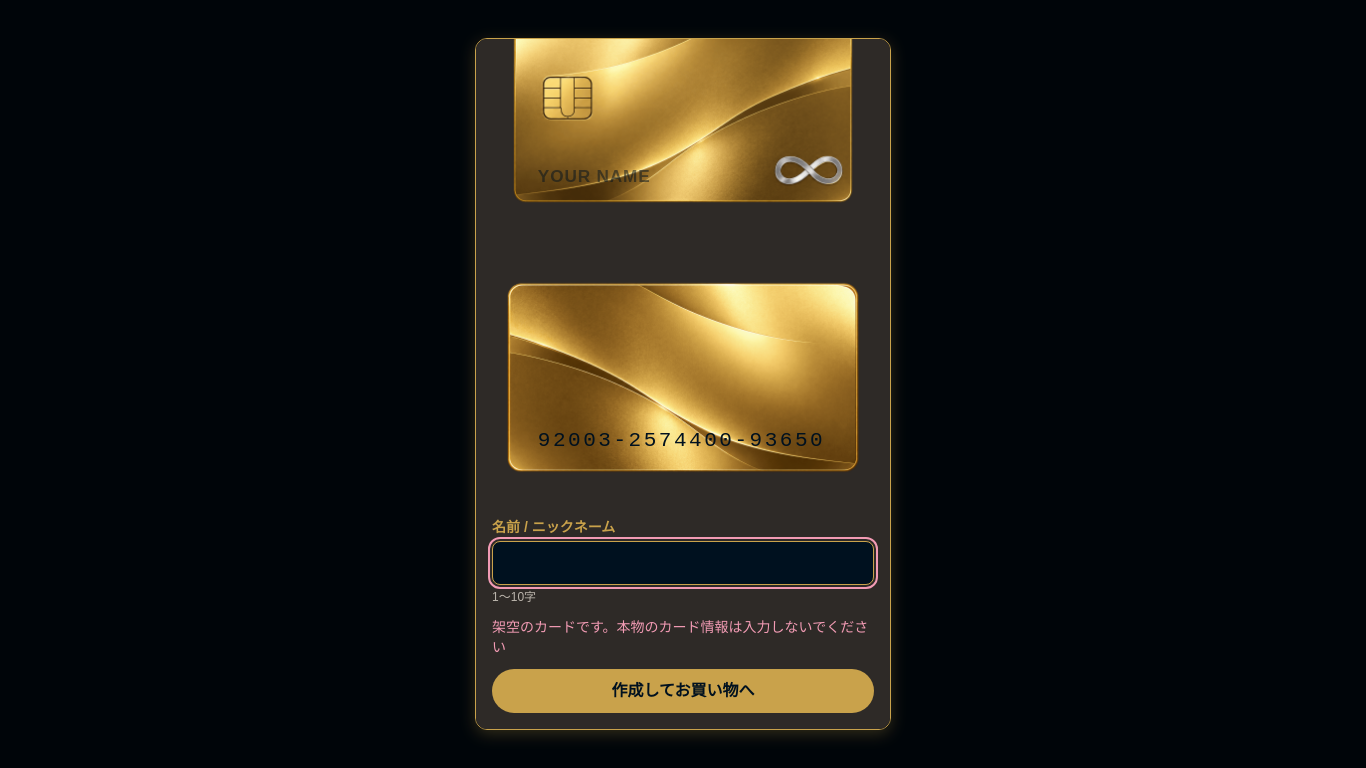
Test case: CreateCardModal › 空の名前では作成できず、エラーが出る
The width and height of the screenshot is (1366, 768).
(page scrolled)
Click the button "作成してお買い物へ".
click(683, 691)  # box [492, 669, 874, 713]
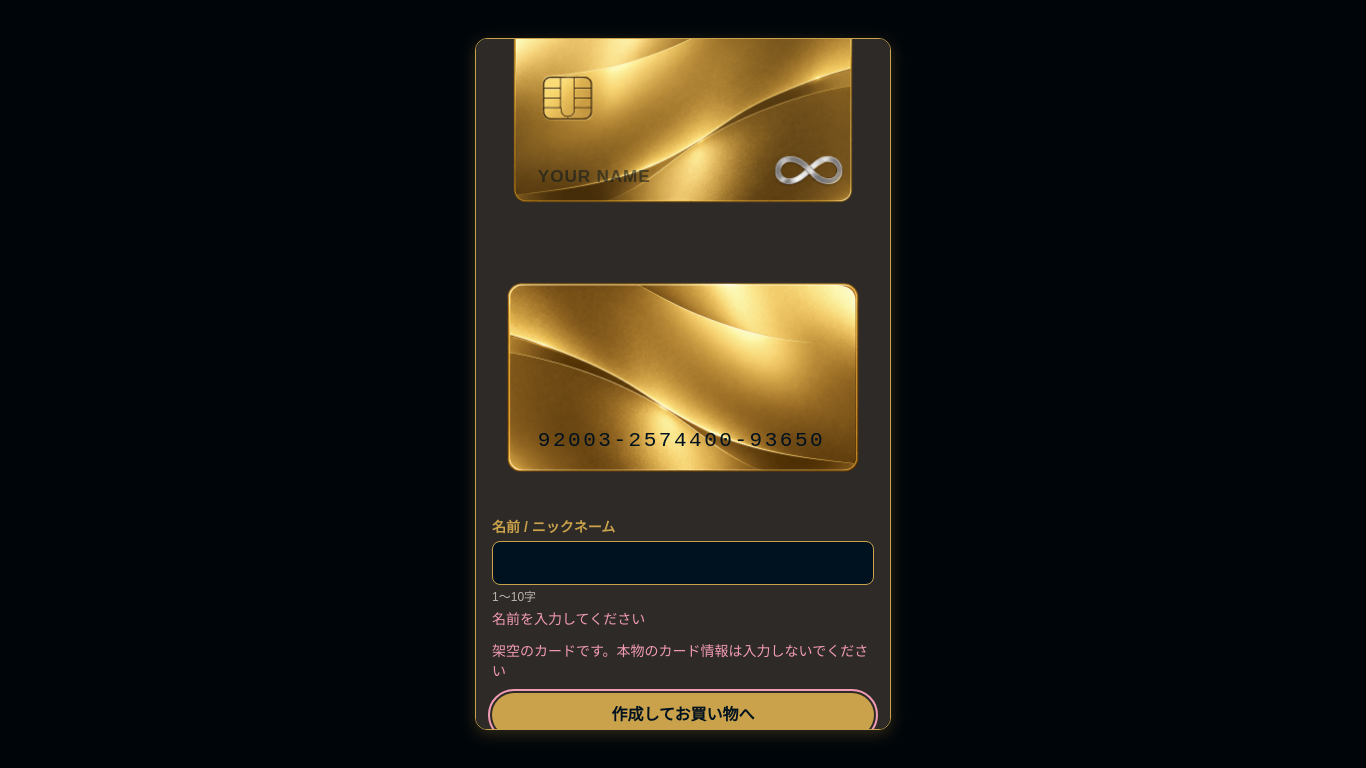
expect the message reads "名前を入力してください": met, box [492, 611, 645, 627]
